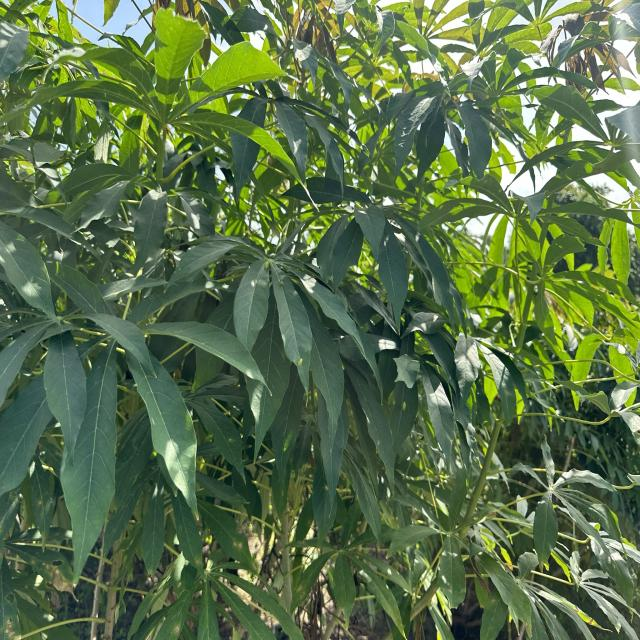Mosca: (397, 125, 410, 151), (146, 416, 159, 432), (293, 354, 306, 369), (249, 274, 260, 289)
